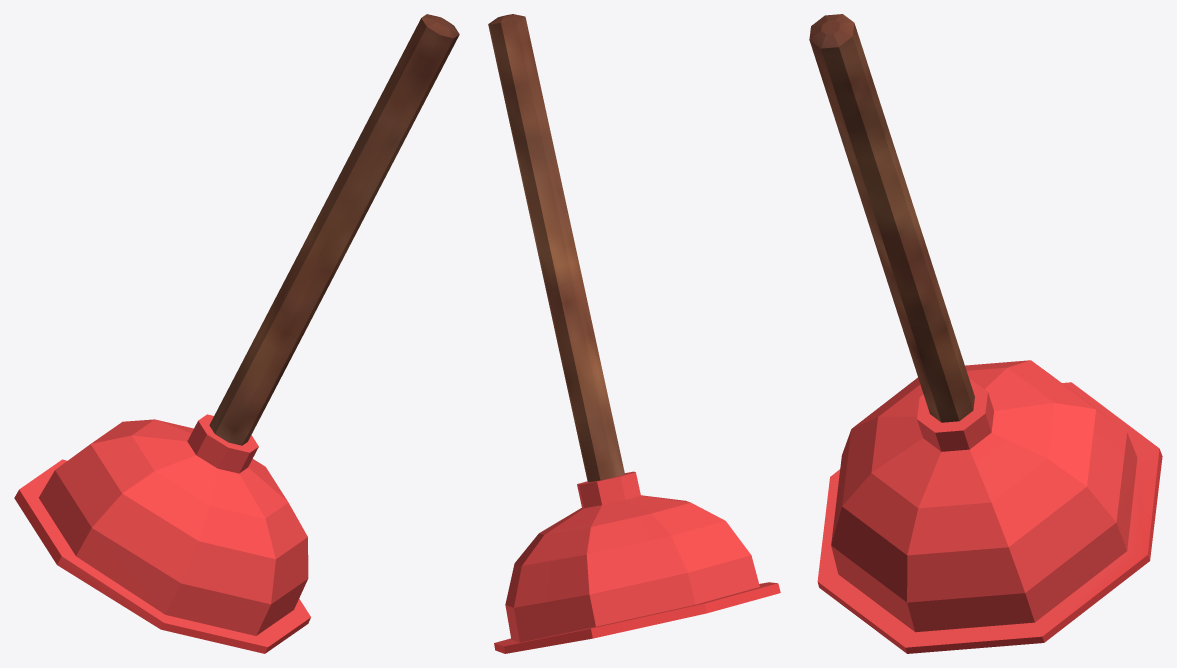
Rendered from PLUNGER HAT.fbx.
3 views of the same model, side by side, from view 1: azimuth 30°, elevation 25°; view 2: azimuth 150°, elevation 25°; view 3: azimuth 270°, elevation 25° (orthographic). The views are drawn at different scales.
Parts seen in each view (by area): view 1: PLUNGER_HAT; view 2: PLUNGER_HAT; view 3: PLUNGER_HAT.
Part boxes in pixels (x1=…): PLUNGER_HAT: x1=14, y1=14, x2=459, y2=653; PLUNGER_HAT: x1=488, y1=14, x2=780, y2=653; PLUNGER_HAT: x1=809, y1=14, x2=1162, y2=653.
Size of the model in its own units: 21.41 by 35.05 by 16.33.
